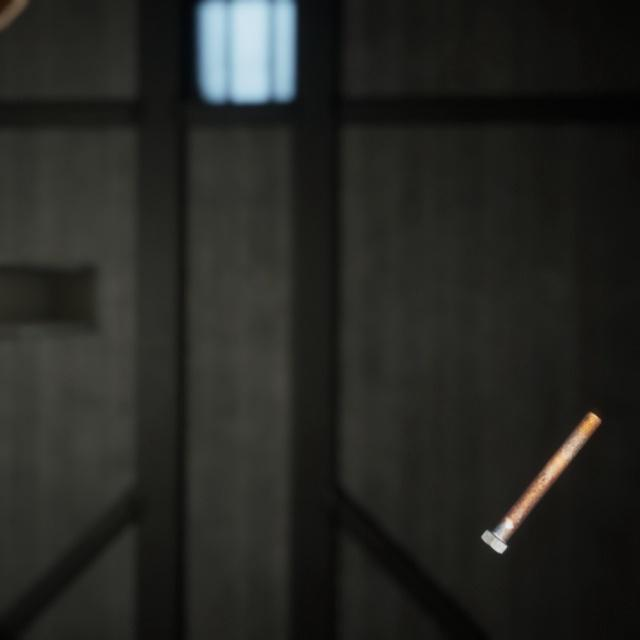bolt: (476, 385, 606, 538)
